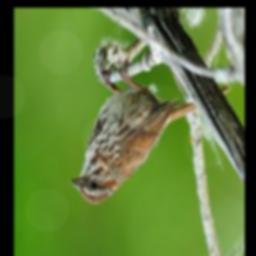Sparrow: (68, 57, 231, 206)
